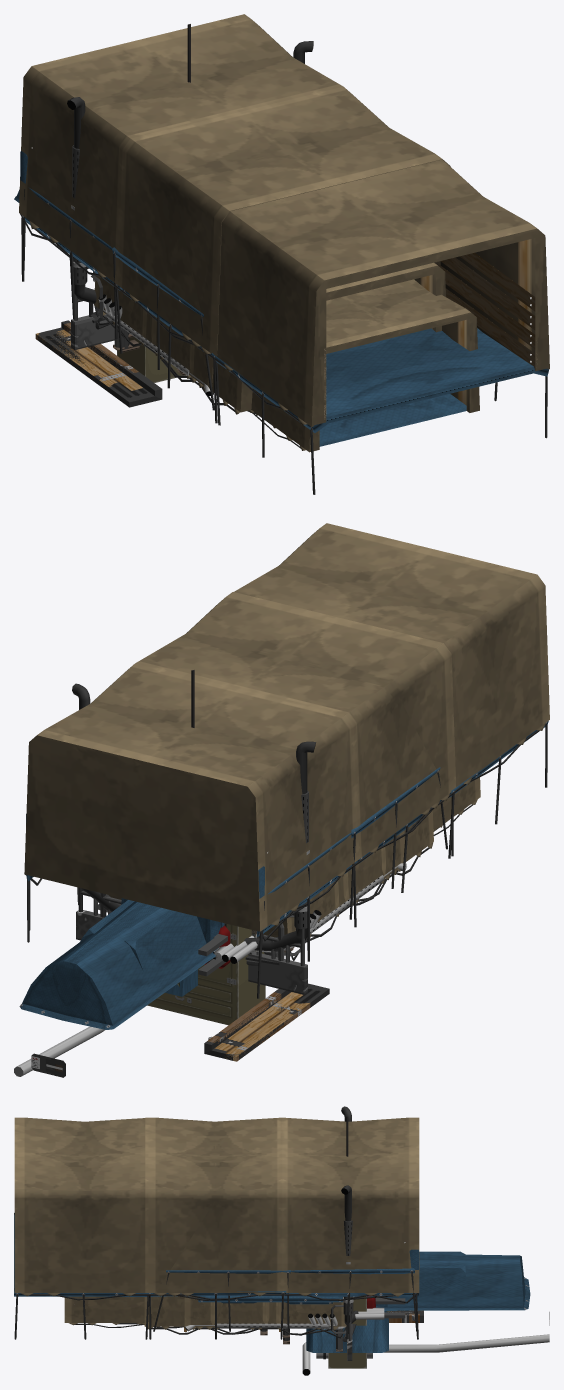
File: fr_parts.fbx
The picture shows the model from 3 angles, top to bottom: view 1: azimuth 30°, elevation 25°; view 2: azimuth 150°, elevation 25°; view 3: azimuth 270°, elevation 25°; orthographic projection. The views are drawn at different scales.
Parts seen in each view (by area): view 1: bed_long_cap_soft_heavyflat1, bed_short_cap_soft_heavyflat1, bed_long_cover_tarp_heavyflat1, bed_trailer_cap_soft_large_1, bed_long_boards_heavyflat1, bed_long_cap_soft_1, bed_trailer_cover_tarp_large_1, sidestep3100normal, bed_trailer_cap_soft_medium_1, bed_short_cover_tarp_heavydump1, sidestep3100old, mufflerstack1dual (+5 smaller); view 2: bed_short_cap_soft_heavyflat1, bed_long_cap_soft_heavyflat1, trunkfiller_tarphuge2, armorymilitary, trunkfiller_tarphuge1, bumperoffroad_l1, bed_long_cap_soft_1, sidestep3100old, mufflerstack1dual, bed_short_cap_soft_1, bed_short_cover_tarp_heavyflat1, bed_short_cover_tarp_heavydump1 (+5 smaller); view 3: bed_long_cap_soft_heavyflat1, bed_short_cap_soft_heavyflat1, trunkfiller_tarphuge2, bed_long_cap_soft_1, bed_trailer_cap_soft_large_1, tiretarp1, mufflerheavy1, trunkfiller_tarphuge1, bed_short_cover_tarp_heavydump1, bed_short_cover_tarp_heavyflat1, bed_short_cap_soft_1, mufflerstack1dual (+4 smaller).
Part boxes in pixels (left/top/right/bottom): bed_long_cap_soft_heavyflat1: left=118, top=86, right=549, bottom=426; bed_short_cap_soft_heavyflat1: left=19, top=14, right=450, bottom=356; bed_long_cover_tarp_heavyflat1: left=26, top=221, right=548, bottom=494; bed_trailer_cap_soft_large_1: left=249, top=279, right=479, bottom=452; bed_long_boards_heavyflat1: left=31, top=147, right=537, bottom=419; bed_long_cap_soft_1: left=94, top=277, right=252, bottom=414; bed_trailer_cover_tarp_large_1: left=319, top=394, right=466, bottom=446; sidestep3100normal: left=38, top=320, right=162, bottom=407; bed_trailer_cap_soft_medium_1: left=247, top=262, right=445, bottom=428; bed_short_cover_tarp_heavydump1: left=22, top=188, right=214, bottom=410; sidestep3100old: left=35, top=322, right=138, bottom=385; mufflerstack1dual: left=67, top=41, right=313, bottom=303; bed_short_cap_soft_heavyflat1: left=24, top=592, right=455, bottom=941; bed_long_cap_soft_heavyflat1: left=135, top=523, right=549, bottom=859; trunkfiller_tarphuge2: left=19, top=901, right=218, bottom=1029; armorymilitary: left=147, top=923, right=265, bottom=1025; trunkfiller_tarphuge1: left=80, top=900, right=206, bottom=972; bumperoffroad_l1: left=76, top=887, right=307, bottom=994; bed_long_cap_soft_1: left=99, top=810, right=433, bottom=960; sidestep3100old: left=207, top=992, right=306, bottom=1061; mufflerstack1dual: left=72, top=683, right=315, bottom=950; bed_short_cap_soft_1: left=252, top=831, right=404, bottom=937; bed_short_cover_tarp_heavyflat1: left=26, top=796, right=453, bottom=998; bed_short_cover_tarp_heavydump1: left=29, top=767, right=447, bottom=973; bed_long_cap_soft_heavyflat1: left=14, top=1117, right=282, bottom=1300; bed_short_cap_soft_heavyflat1: left=145, top=1117, right=419, bottom=1303; trunkfiller_tarphuge2: left=376, top=1253, right=530, bottom=1310; bed_long_cap_soft_1: left=144, top=1296, right=346, bottom=1338; bed_trailer_cap_soft_large_1: left=64, top=1296, right=339, bottom=1330; tiretarp1: left=306, top=1311, right=388, bottom=1352; mufflerheavy1: left=302, top=1334, right=549, bottom=1375; trunkfiller_tarphuge1: left=387, top=1251, right=466, bottom=1299; bed_short_cover_tarp_heavydump1: left=153, top=1268, right=417, bottom=1331; bed_short_cover_tarp_heavyflat1: left=145, top=1249, right=418, bottom=1339; bed_short_cap_soft_1: left=184, top=1296, right=346, bottom=1334; mufflerstack1dual: left=341, top=1106, right=358, bottom=1324.
Bounding box in the file's own units: 244 × 321 × 670.
